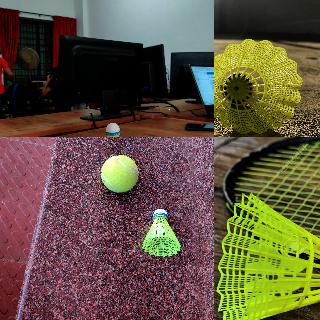shuttlecock: (216, 192, 319, 319), (214, 38, 302, 134), (142, 208, 180, 256), (96, 122, 131, 136)
